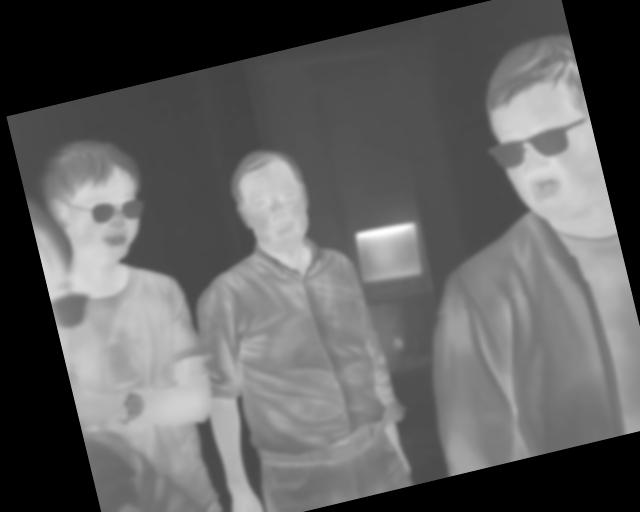face: (469, 28, 612, 235), (36, 126, 157, 274), (222, 139, 321, 259)
